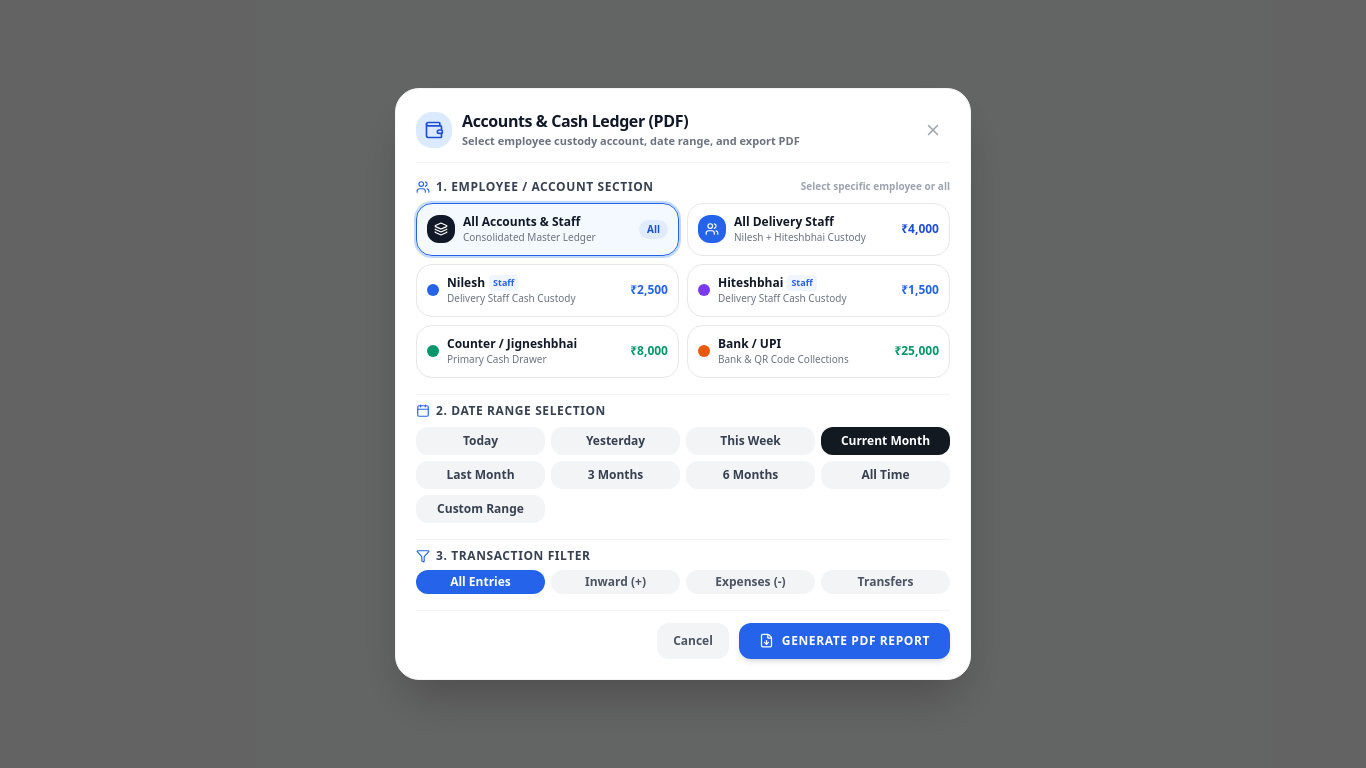
Test case: AccountsLedgerReportModal › displays date range presets and handles preset selection
Check: the text "2. Date Range Selection" is shown, box x1=416 y1=402 x2=606 y2=419
Check: the button "Today" is shown, box x1=416 y1=427 x2=545 y2=455
# Clicking custom range reveals Start Date and End Date inputs
Click the button "Custom Range": (480, 509) x1=416 y1=495 x2=545 y2=523
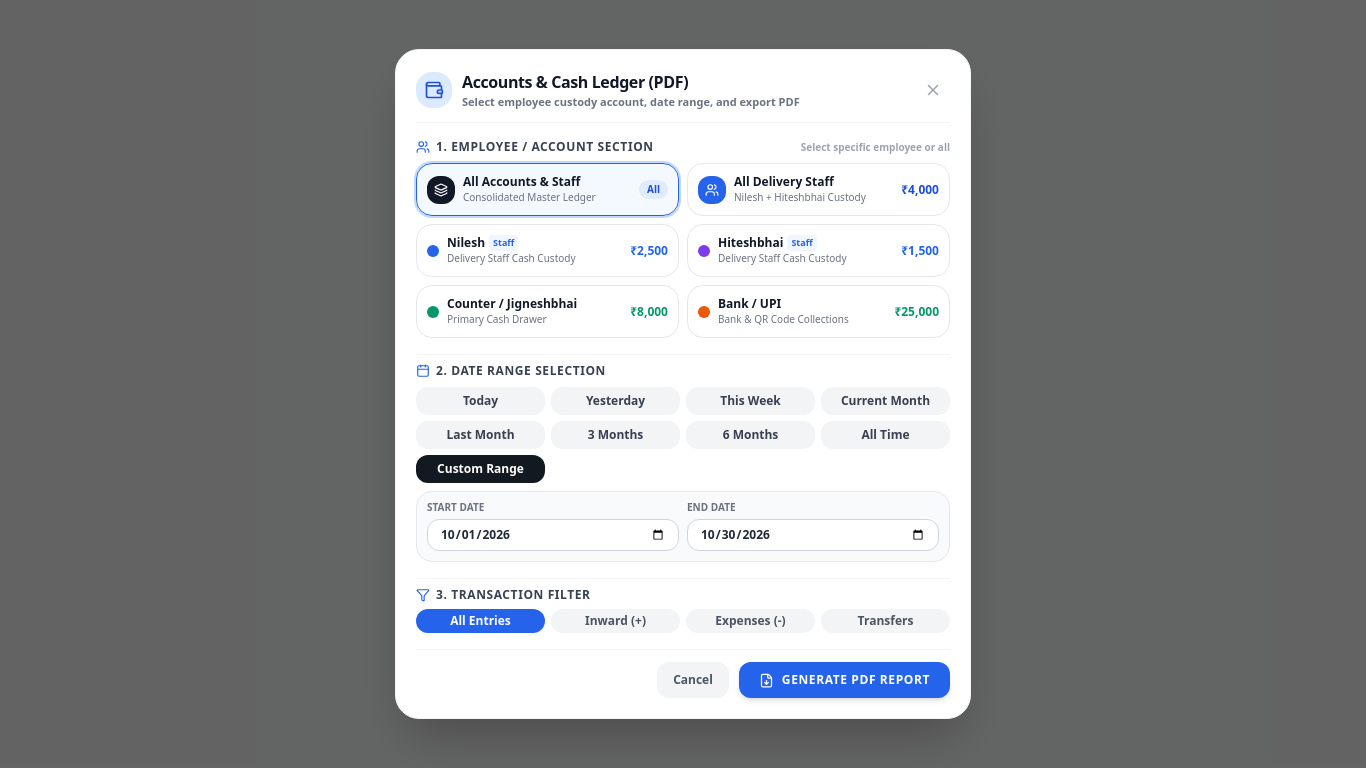
Check: the text "Start Date" is shown, box x1=427 y1=500 x2=484 y2=514
Check: the text "End Date" is shown, box x1=687 y1=500 x2=736 y2=514
